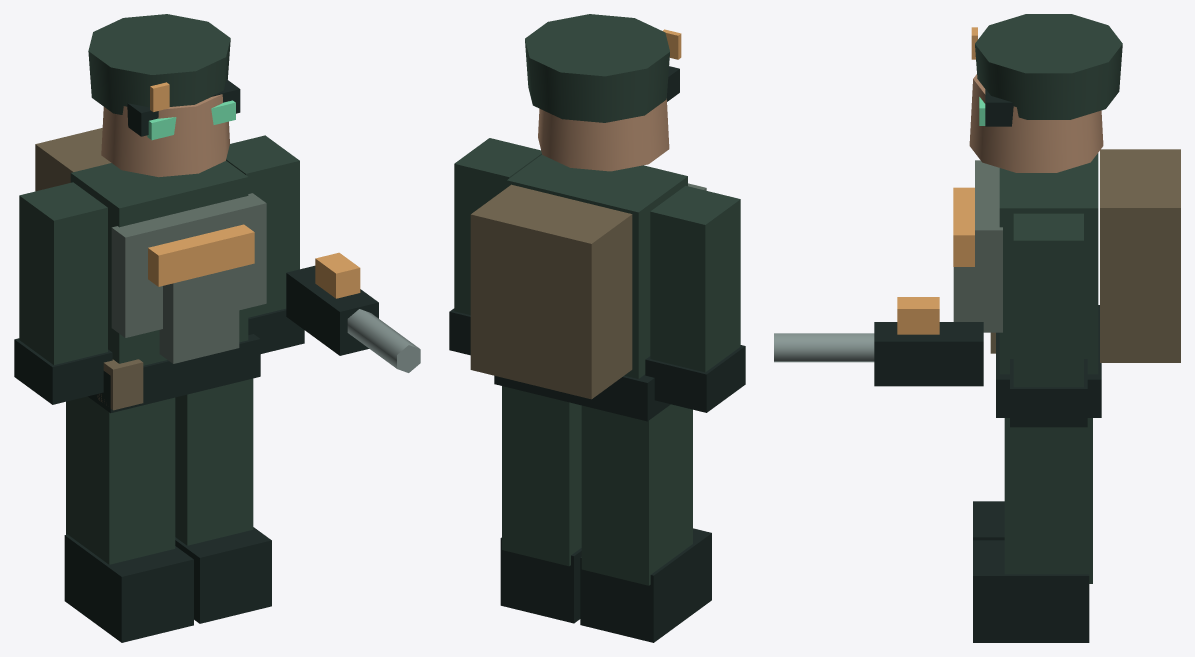
The model's file is assault_l01.glb.
3 renders of one model, left to right at view 1: azimuth 30°, elevation 25°; view 2: azimuth 150°, elevation 25°; view 3: azimuth 270°, elevation 25°, orthographic. The views are drawn at different scales.
Parts seen in each view (by area): view 1: trouser (×2), sleeve (×2), boot (×2), helmet, vest, body, face, front_plate, glove (×2), belt, dzn_chest_flash, carbine_body (+6 smaller); view 2: trouser (×2), field_pack, sleeve (×2), helmet, boot (×2), body, face, glove (×2), belt; view 3: field_pack, trouser, helmet, sleeve, boot (×2), body, face, carbine_body, vest, glove, carbine_barrel, dzn_chest_flash (+4 smaller).
Boxes of the visible parts, box(x1,y1,x2,y2) form: trouser (×2): box(66, 378, 253, 564); sleeve (×2): box(19, 135, 299, 364); boot (×2): box(64, 527, 271, 642); helmet: box(88, 14, 230, 114); vest: box(111, 193, 266, 337); body: box(70, 161, 248, 365); face: box(101, 94, 229, 177); front_plate: box(159, 267, 239, 363); glove (×2): box(14, 308, 304, 404); belt: box(88, 334, 260, 413); dzn_chest_flash: box(148, 224, 254, 286); carbine_body: box(286, 265, 378, 355); trouser (×2): box(502, 386, 692, 585); field_pack: box(470, 184, 632, 399); sleeve (×2): box(454, 138, 740, 372); helmet: box(525, 14, 669, 122); boot (×2): box(500, 528, 711, 642); body: box(507, 154, 687, 378); face: box(538, 98, 669, 171); glove (×2): box(449, 308, 745, 412); belt: box(494, 374, 670, 421); field_pack: box(1100, 149, 1180, 362); trouser: box(1004, 418, 1092, 583); helmet: box(975, 14, 1122, 119); sleeve: box(1013, 213, 1083, 387); boot (×2): box(973, 501, 1089, 642); body: box(999, 153, 1098, 374); face: box(969, 74, 1103, 172); carbine_body: box(874, 322, 983, 386); vest: box(975, 160, 1002, 332); glove: box(1010, 359, 1087, 427); carbine_barrel: box(774, 333, 874, 362); dzn_chest_flash: box(953, 187, 974, 266).
Bounding box in the file's own units: 0.865 × 1.76 × 1.16.
